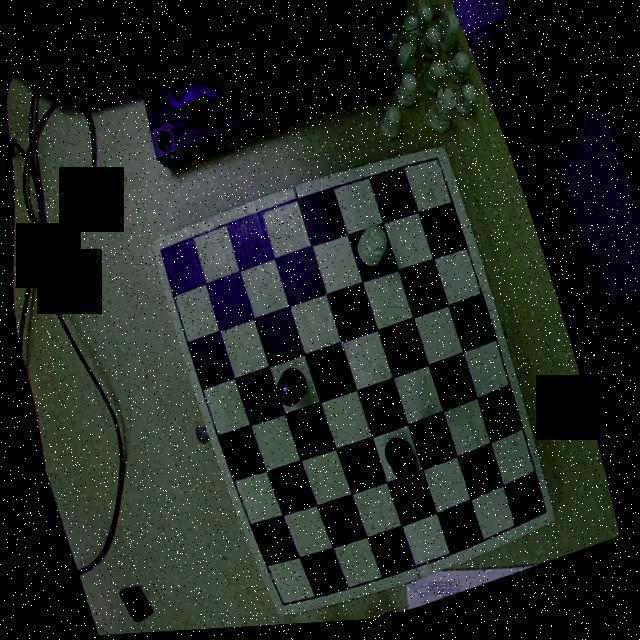chess-table-corners: (150, 238, 178, 268), (420, 150, 448, 178), (530, 499, 552, 532), (272, 592, 296, 620)
